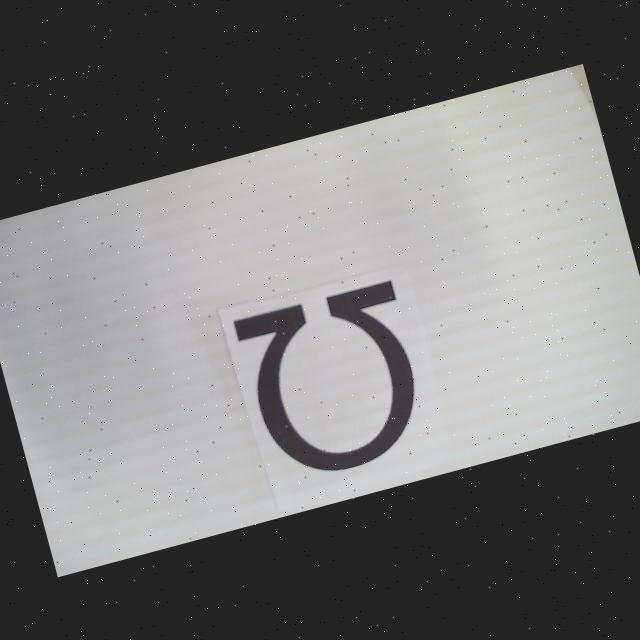OMEGA: (232, 278, 434, 487)
